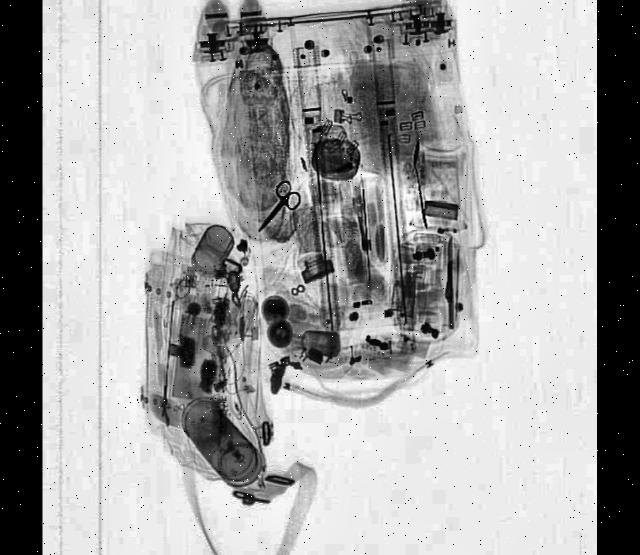Scissors: (250, 176, 303, 245)
